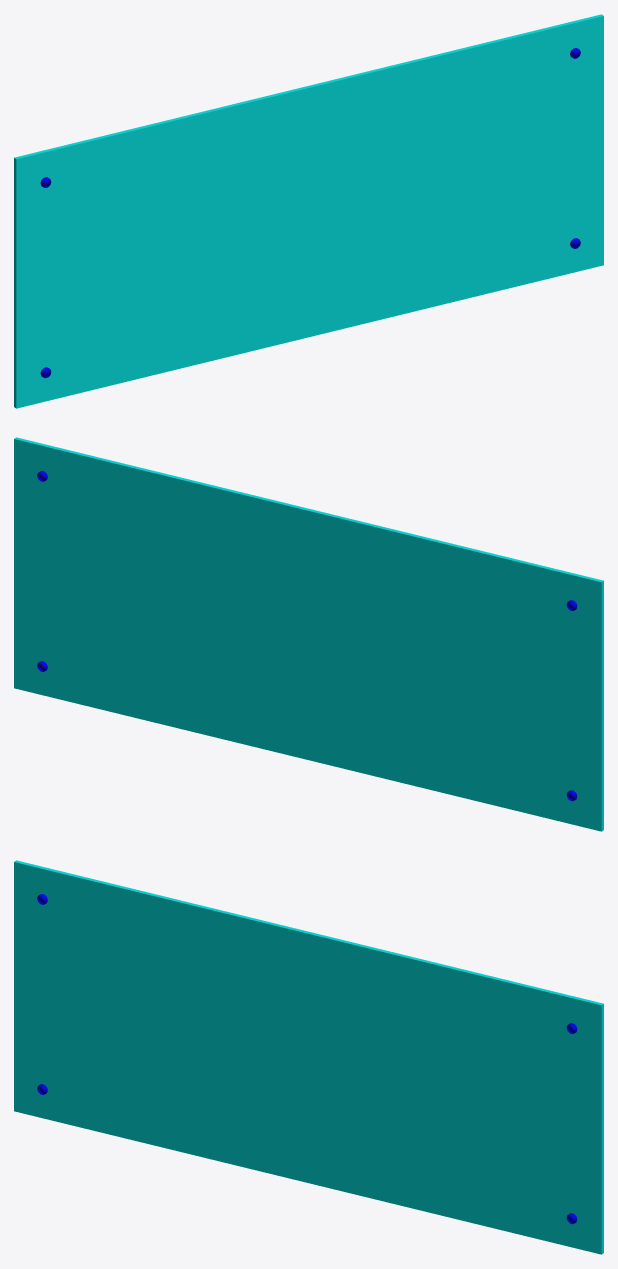
Rendered from cuadro_15_low.fbx.
3 views of the same model, one above another, from view 1: azimuth 30°, elevation 25°; view 2: azimuth 150°, elevation 25°; view 3: azimuth 330°, elevation 25° (orthographic).
Parts seen in each view (by area): view 1: cuadro_base; view 2: cuadro_base; view 3: cuadro_base.
Part boxes in pixels (box(x1,y1,x2,y2)): cuadro_base: box(14, 14, 603, 408); cuadro_base: box(14, 437, 603, 831); cuadro_base: box(14, 860, 603, 1254).
Bounding box in the file's own units: 148 × 60 × 2.
